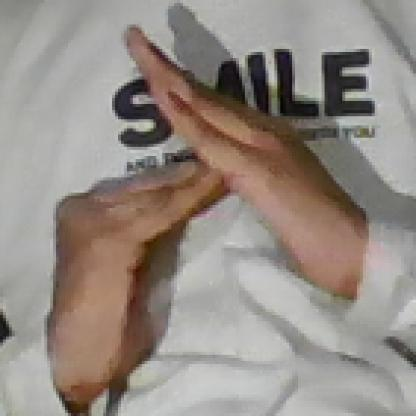Z: (43, 18, 306, 340)
